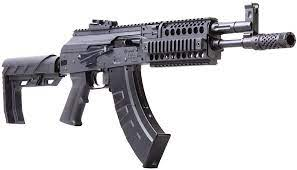gun: (2, 2, 297, 169)
